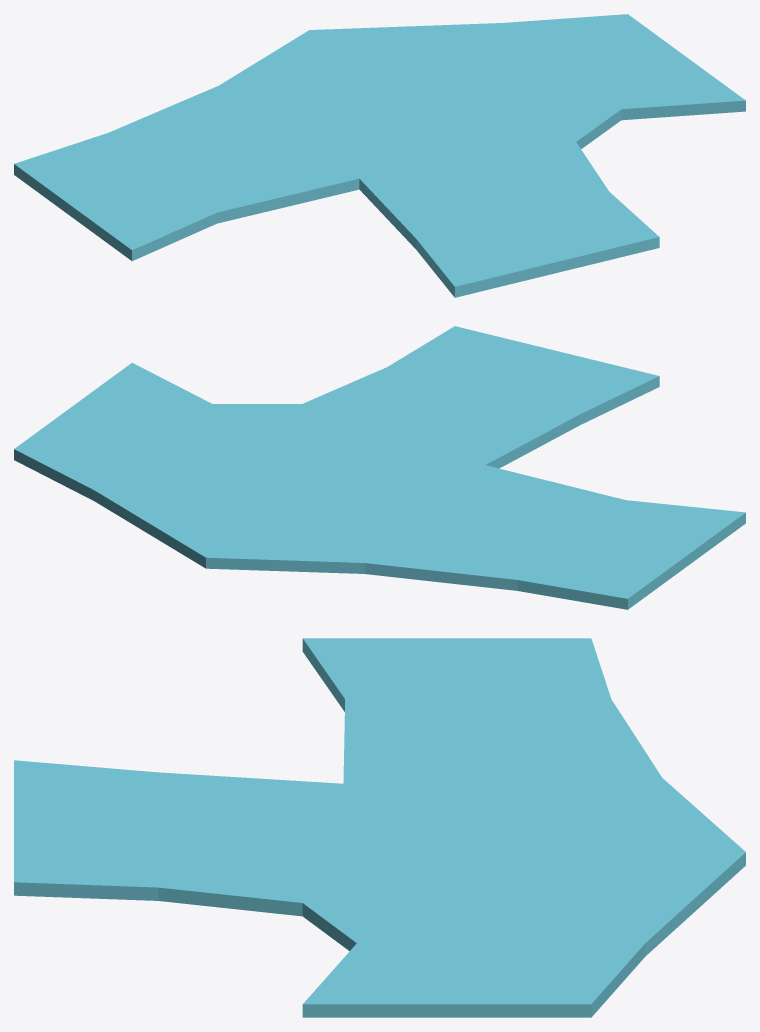
File: WaterThree.fbx
3 renders of one model, top to bottom at view 1: azimuth 30°, elevation 25°; view 2: azimuth 150°, elevation 25°; view 3: azimuth 270°, elevation 25°, orthographic. The views are drawn at different scales.
Parts seen in each view (by area): view 1: WaterThree; view 2: WaterThree; view 3: WaterThree.
Part boxes in pixels (x1,y1,x2,y2): WaterThree: (14, 14, 745, 297); WaterThree: (14, 326, 745, 609); WaterThree: (14, 638, 745, 1017).
Bounding box in the file's own units: 340 × 5.82 × 288.
